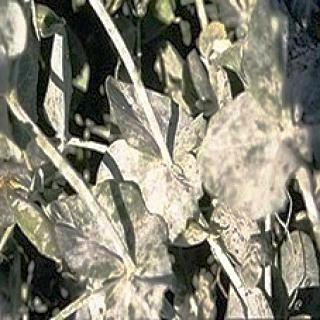grey mildew: (38, 173, 177, 319), (104, 76, 234, 220), (221, 15, 222, 24)
